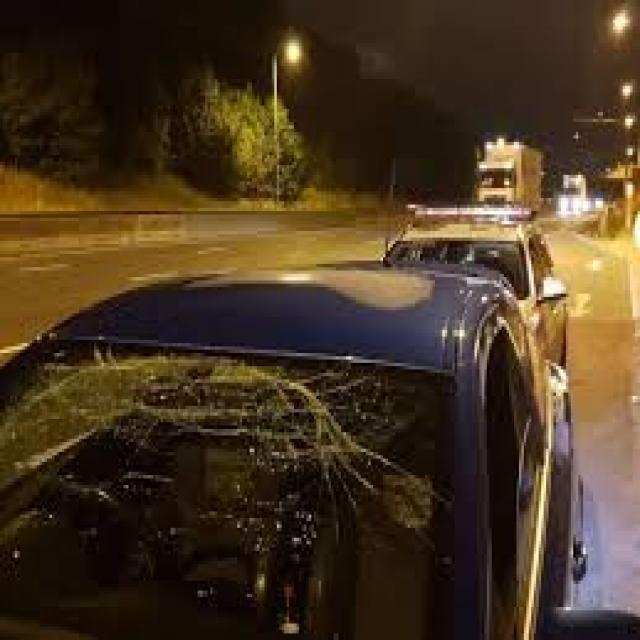damaged-windscreen: (4, 330, 456, 640)
